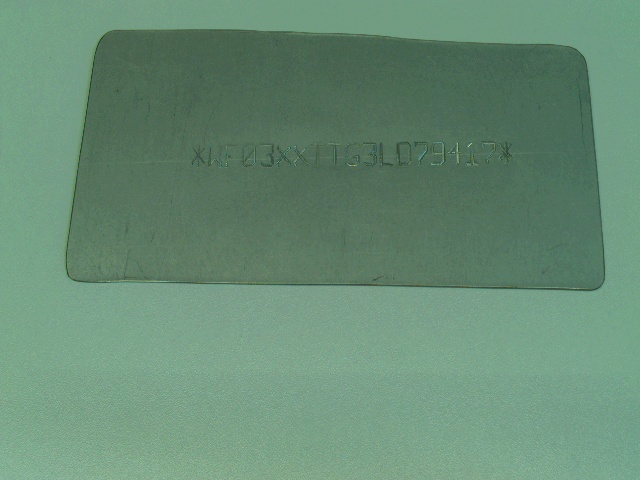0: (240, 143, 257, 167)
1: (465, 142, 480, 166)
3: (259, 142, 275, 168), (362, 141, 378, 166)
4: (448, 140, 462, 166)
7: (480, 140, 497, 166), (413, 140, 429, 166)
9: (431, 140, 446, 168)
d: (396, 140, 413, 166)
f: (223, 143, 237, 168)
g: (342, 141, 361, 166)
l: (378, 139, 395, 169)
t: (325, 141, 341, 165), (310, 142, 323, 166)
w: (207, 143, 223, 168)
x: (292, 143, 309, 166), (275, 144, 291, 168)
